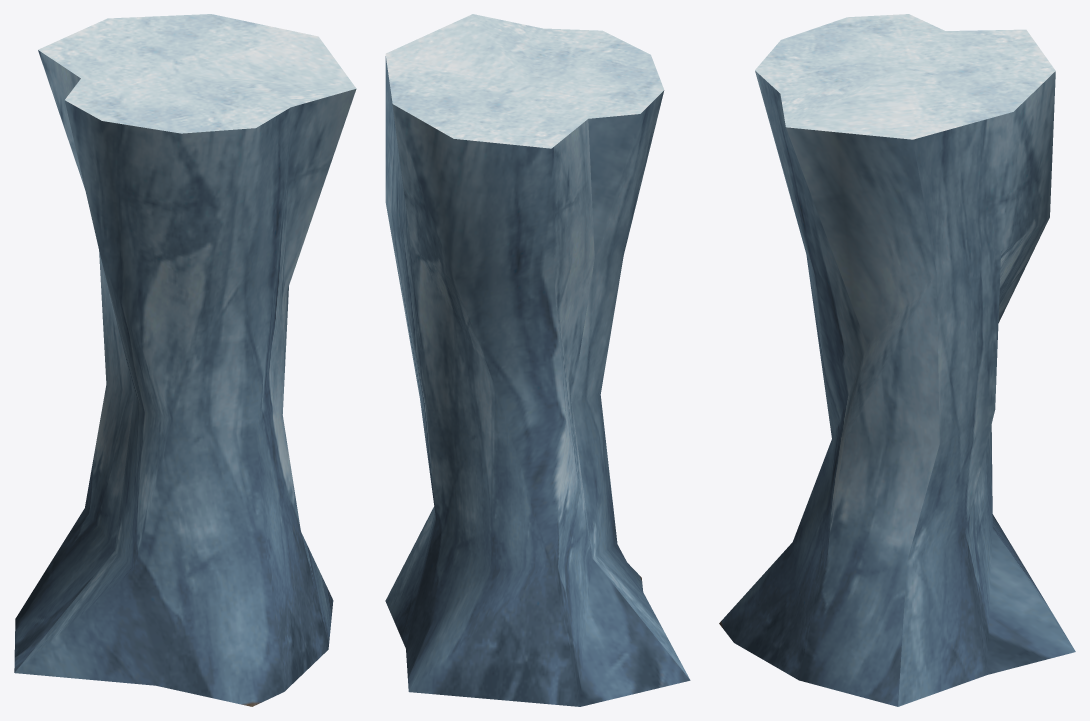
3 views of the same model, side by side, from view 1: azimuth 30°, elevation 25°; view 2: azimuth 150°, elevation 25°; view 3: azimuth 270°, elevation 25° (orthographic).
Visible parts, largest first — view 1: wj09; view 2: wj09; view 3: wj09.
Boxes of the visible parts, x1,y1,x2,y2 form: wj09: (14, 14, 356, 706); wj09: (385, 14, 690, 706); wj09: (719, 14, 1075, 706).
Size of the model in its own units: 708 by 1209 by 694.
1 material, 1 textured.
